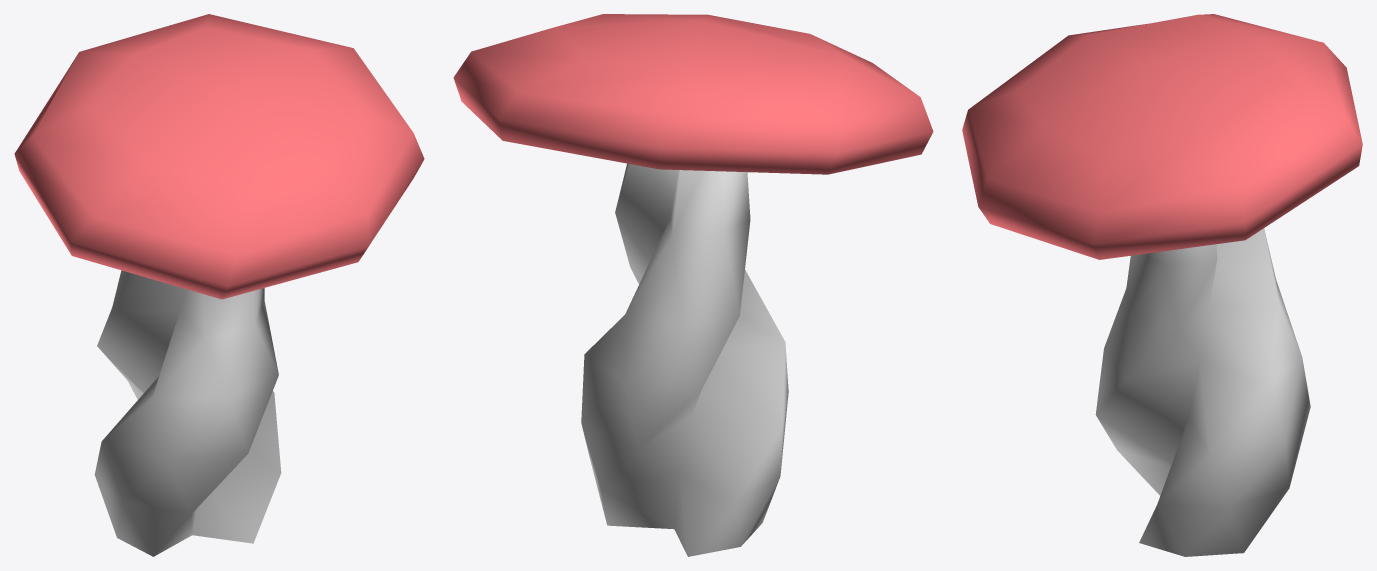
File: TwistCap.fbx
The picture shows the model from 3 angles, left to right: view 1: azimuth 30°, elevation 25°; view 2: azimuth 150°, elevation 25°; view 3: azimuth 270°, elevation 25°; orthographic projection. The views are drawn at different scales.
Parts seen in each view (by area): view 1: TwistCap_Item_LOD0, TwistCap_Base_LOD0; view 2: TwistCap_Base_LOD0, TwistCap_Item_LOD0; view 3: TwistCap_Item_LOD0, TwistCap_Base_LOD0.
Boxes of the visible parts, x1,y1,x2,y2 form: TwistCap_Item_LOD0: (14, 14, 424, 299); TwistCap_Base_LOD0: (94, 270, 281, 556); TwistCap_Base_LOD0: (581, 163, 788, 556); TwistCap_Item_LOD0: (453, 14, 933, 174); TwistCap_Item_LOD0: (962, 14, 1362, 259); TwistCap_Base_LOD0: (1095, 228, 1310, 556).
Size of what is drawn, in the model's own units: 0.2332 by 0.2722 by 0.2085.
